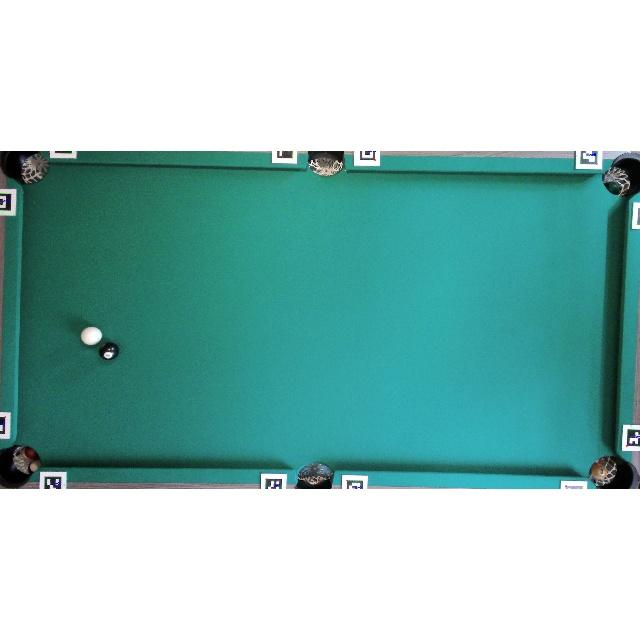cue ball: (80, 326, 103, 346)
other: (99, 342, 119, 361)
